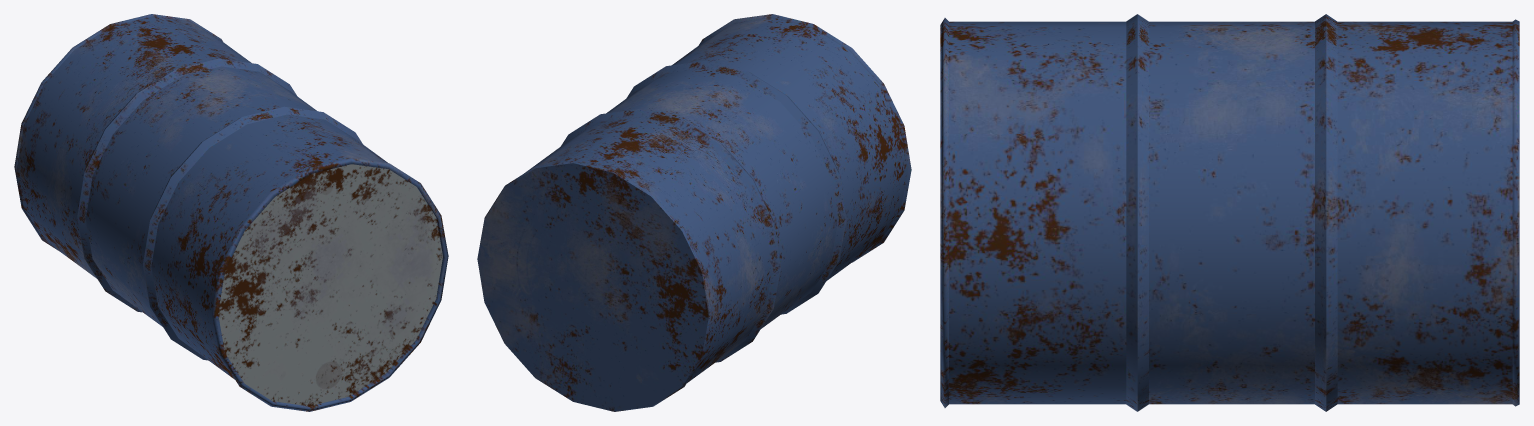
3 views of the same model, side by side, from view 1: azimuth 30°, elevation 25°; view 2: azimuth 150°, elevation 25°; view 3: azimuth 270°, elevation 25° (orthographic). The views are drawn at different scales.
Parts seen in each view (by area): view 1: 55_Gallon_Drum01.001; view 2: 55_Gallon_Drum01.001; view 3: 55_Gallon_Drum01.001.
Part boxes in pixels (x1,y1,x2,y2): 55_Gallon_Drum01.001: (14,14,448,411); 55_Gallon_Drum01.001: (477,14,911,411); 55_Gallon_Drum01.001: (940,14,1519,411).
Bounding box in the file's own units: 0.5946 × 0.8622 × 0.5856.
1 material, 1 textured.
